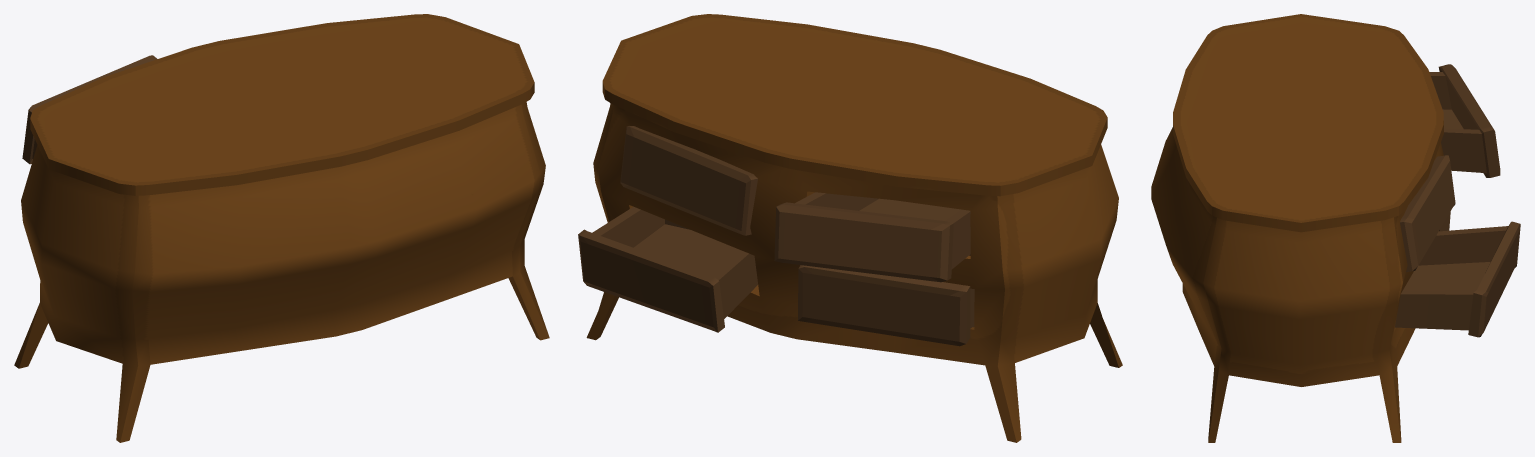
Rendered from drawerChilds.fbx.
3 renders of one model, left to right at view 1: azimuth 30°, elevation 25°; view 2: azimuth 150°, elevation 25°; view 3: azimuth 270°, elevation 25°, orthographic. The views are drawn at different scales.
Parts seen in each view (by area): view 1: RoundedDrawer, drawer4; view 2: RoundedDrawer, drawer3, drawer4, drawer2, drawer1; view 3: RoundedDrawer, drawer3, drawer4, drawer1.
Part boxes in pixels (bbox=[...]): RoundedDrawer: bbox=[14, 14, 549, 442]; drawer4: bbox=[22, 55, 157, 164]; RoundedDrawer: bbox=[586, 14, 1122, 442]; drawer3: bbox=[578, 206, 757, 332]; drawer4: bbox=[774, 192, 970, 282]; drawer2: bbox=[798, 254, 974, 346]; drawer1: bbox=[620, 126, 757, 235]; RoundedDrawer: bbox=[1151, 14, 1443, 442]; drawer3: bbox=[1395, 221, 1520, 337]; drawer4: bbox=[1429, 64, 1500, 177]; drawer1: bbox=[1400, 155, 1455, 271].
Size of the model in its own units: 5.54 by 2.74 by 4.01.
Materials: 2 (1 with a texture image).
